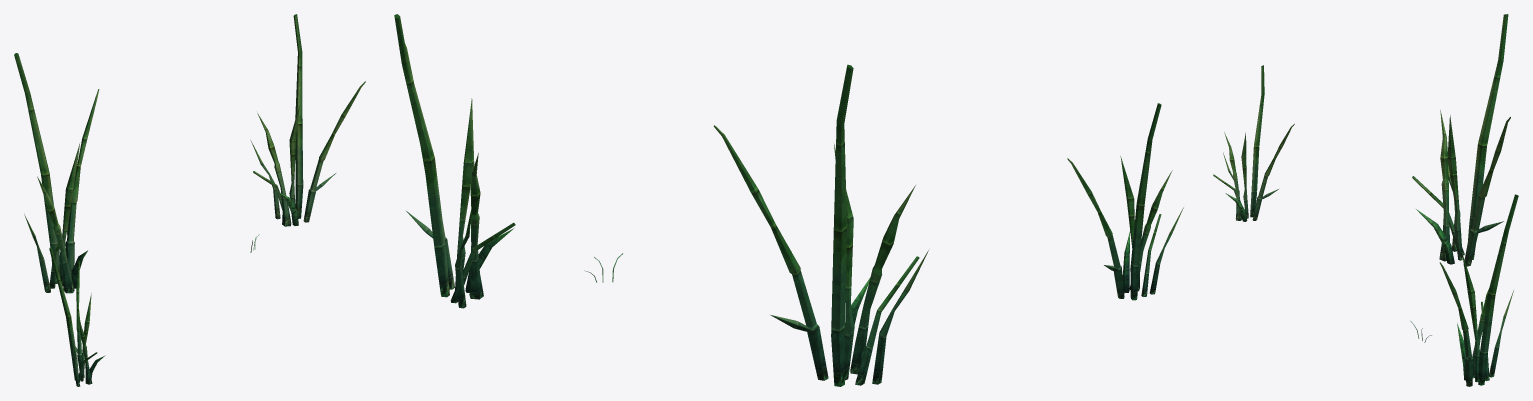
File: Area_02_6.fbx
3 renders of one model, left to right at view 1: azimuth 30°, elevation 25°; view 2: azimuth 150°, elevation 25°; view 3: azimuth 270°, elevation 25°, orthographic. The views are drawn at different scales.
Visible parts, largest first — view 1: Area_02_6; view 2: Area_02_6; view 3: Area_02_6.
Boxes of the visible parts, box(x1,y1,x2,y2) form: Area_02_6: box(14, 14, 365, 386); Area_02_6: box(394, 14, 1183, 386); Area_02_6: box(1213, 14, 1518, 386).
Bounding box in the file's own units: 3054 × 1623 × 1920.
